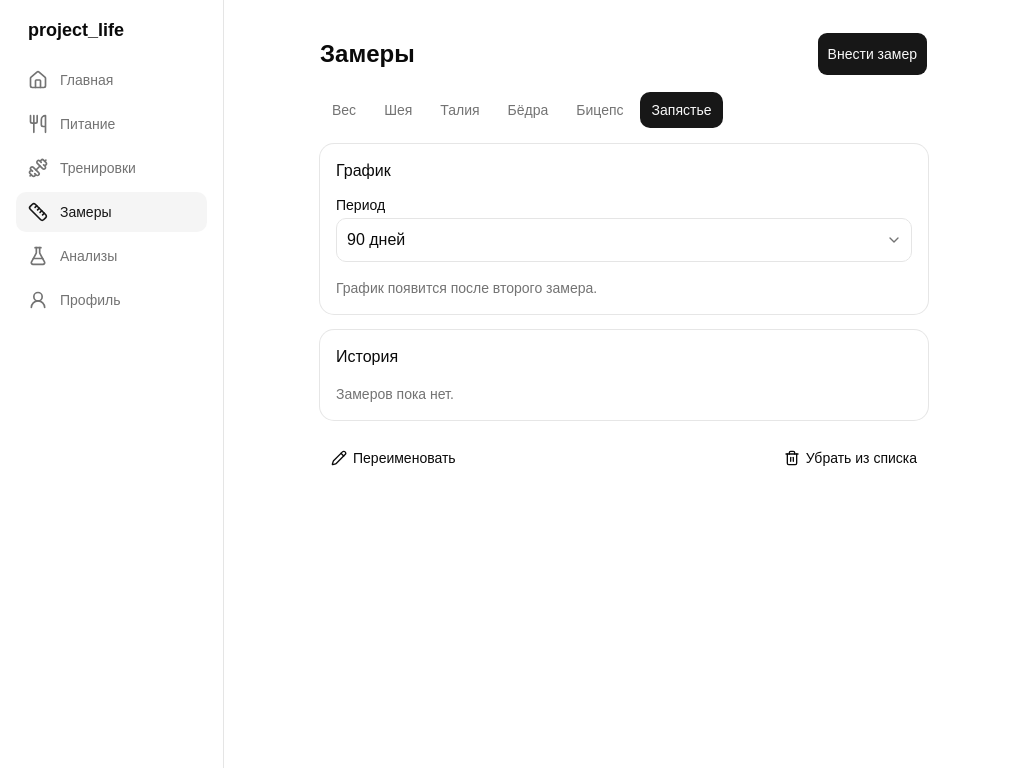
список видов замеров › от удаления из списка можно отказаться
The width and height of the screenshot is (1024, 768).
Click the button "Убрать из списка". click: (850, 458)
box: [773,436,928,480]
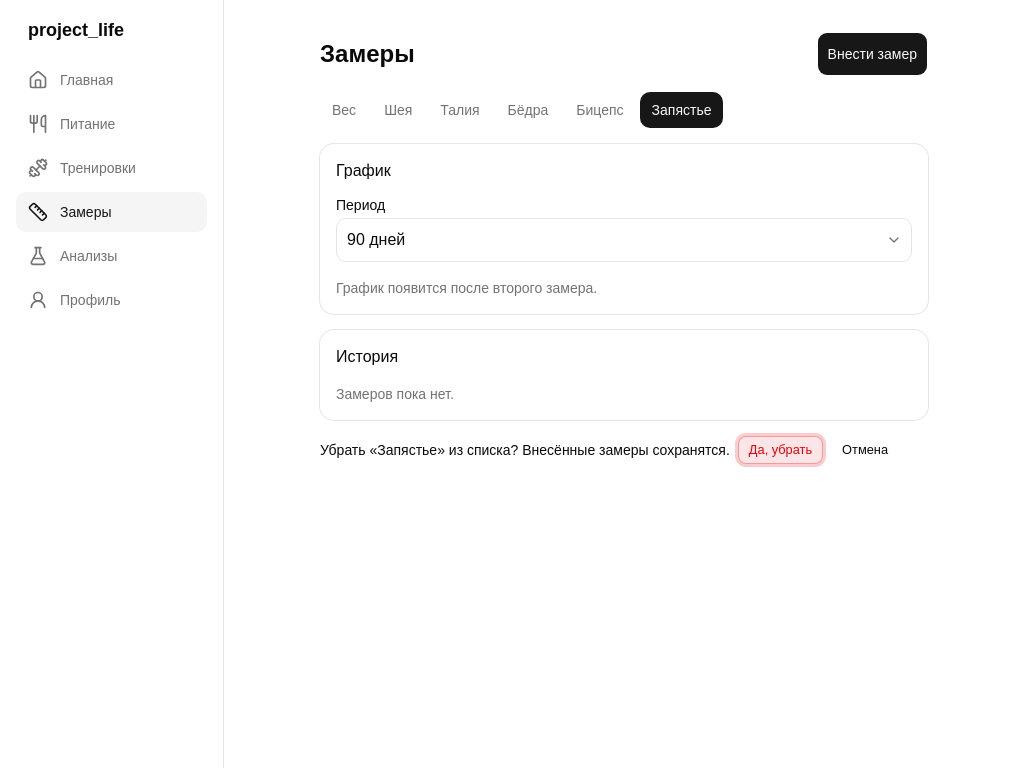
Click the button "Отмена". click: (865, 450)
box: [831,436,899,464]
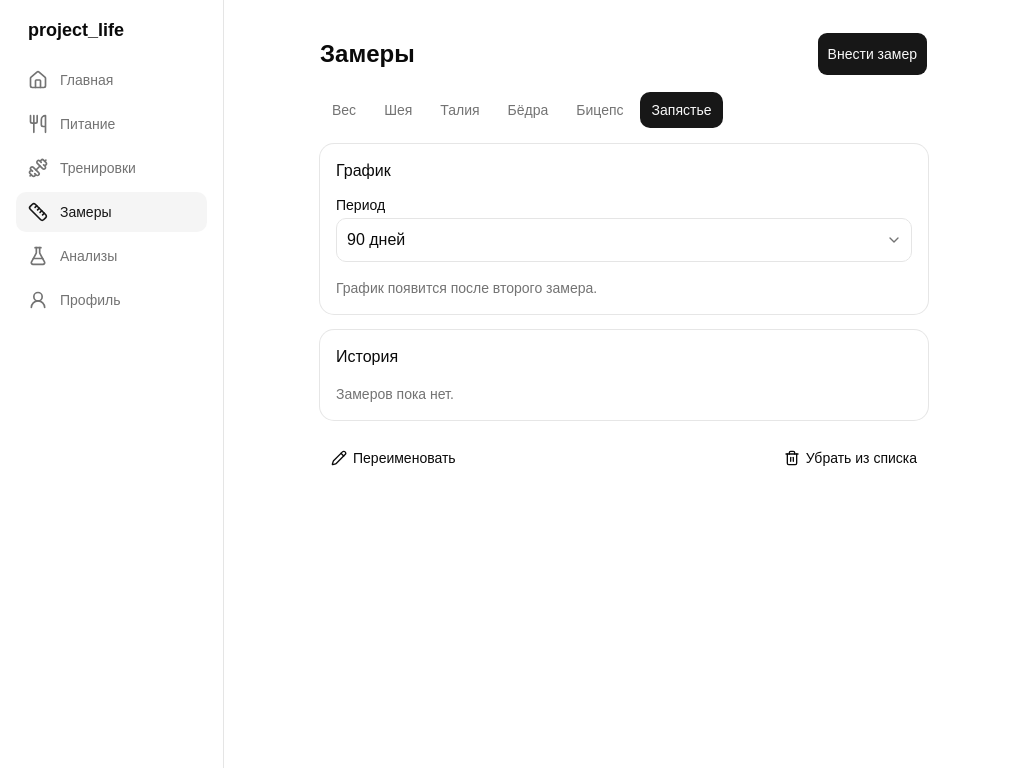
Expected: the button "Убрать из списка" is shown, [773,436,928,480]
